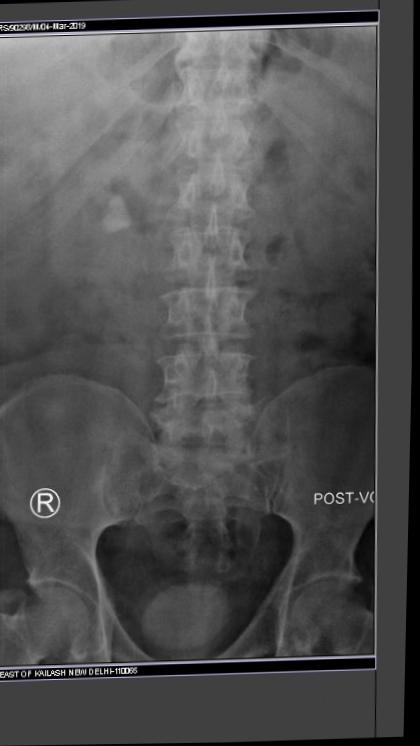bladder: (117, 574, 255, 660)
vertebrae: (171, 161, 260, 227)
